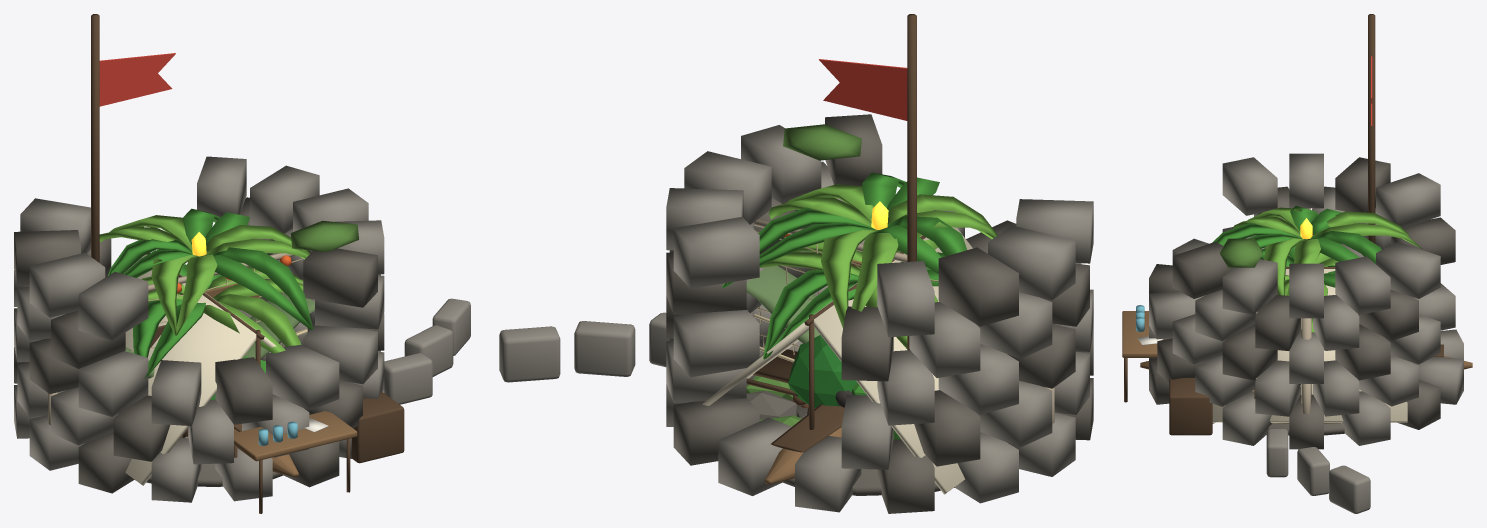
File: isleprops.glb
The picture shows the model from 3 angles, left to right: view 1: azimuth 30°, elevation 25°; view 2: azimuth 150°, elevation 25°; view 3: azimuth 270°, elevation 25°; orthographic projection. The views are drawn at different scales.
Parts seen in each view (by area): view 1: isle_lookout, isle_banana_a, isle_tent, isle_banana_b, isle_hammock, isle_netrack, isle_canoe; view 2: isle_lookout, isle_banana_a, isle_tent, isle_banana_b, isle_canoe, isle_seagrape, isle_hammock, isle_tidepool, isle_logbench; view 3: isle_lookout, isle_banana_a, isle_tent, isle_banana_b.
Boxes of the visible parts, x1,y1,x2,y2 form: isle_lookout: (14,14,470,502); isle_banana_a: (99,208,313,335); isle_tent: (123,252,404,513); isle_banana_b: (133,264,303,378); isle_hammock: (125,292,314,378); isle_netrack: (131,253,307,351); isle_canoe: (233,424,298,477); isle_lookout: (499,14,1093,513); isle_banana_a: (722,172,997,328); isle_tent: (702,227,972,494); isle_banana_b: (759,232,945,359); isle_canoe: (746,378,844,484); isle_seagrape: (788,335,900,439); isle_hammock: (746,265,819,343); isle_tidepool: (746,375,801,426); isle_logbench: (753,349,808,406); isle_lookout: (1149,14,1463,513); isle_banana_a: (1212,205,1422,295); isle_tent: (1122,267,1407,435); isle_banana_b: (1205,245,1338,332).
Size of the model in its own units: 6.29 by 5.39 by 4.85.
